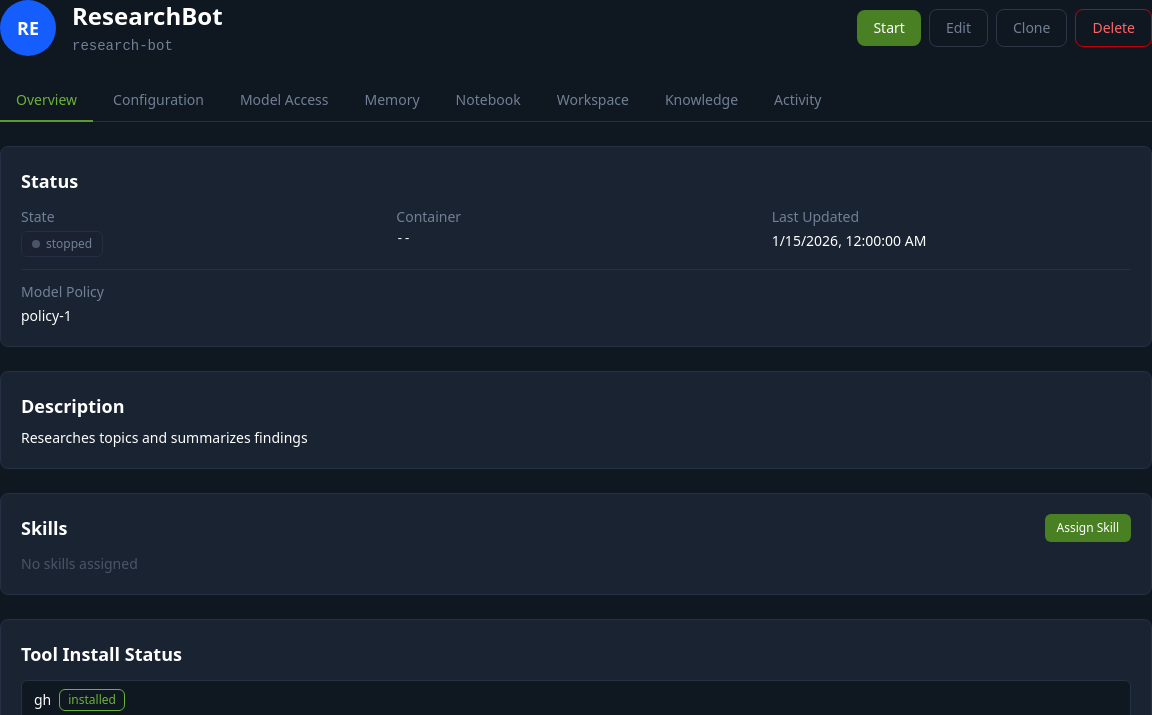
Scenario: AgentDetailClient › a non-JSON error body no longer fails silently (this sweep) › Start shows a toast, not silence, when the server answers with a body res.json() cannot parse
Check: the heading "ResearchBot" is shown, box 72,0 -> 223,32
Click the button "Start": (889, 28) 857,10 -> 921,46
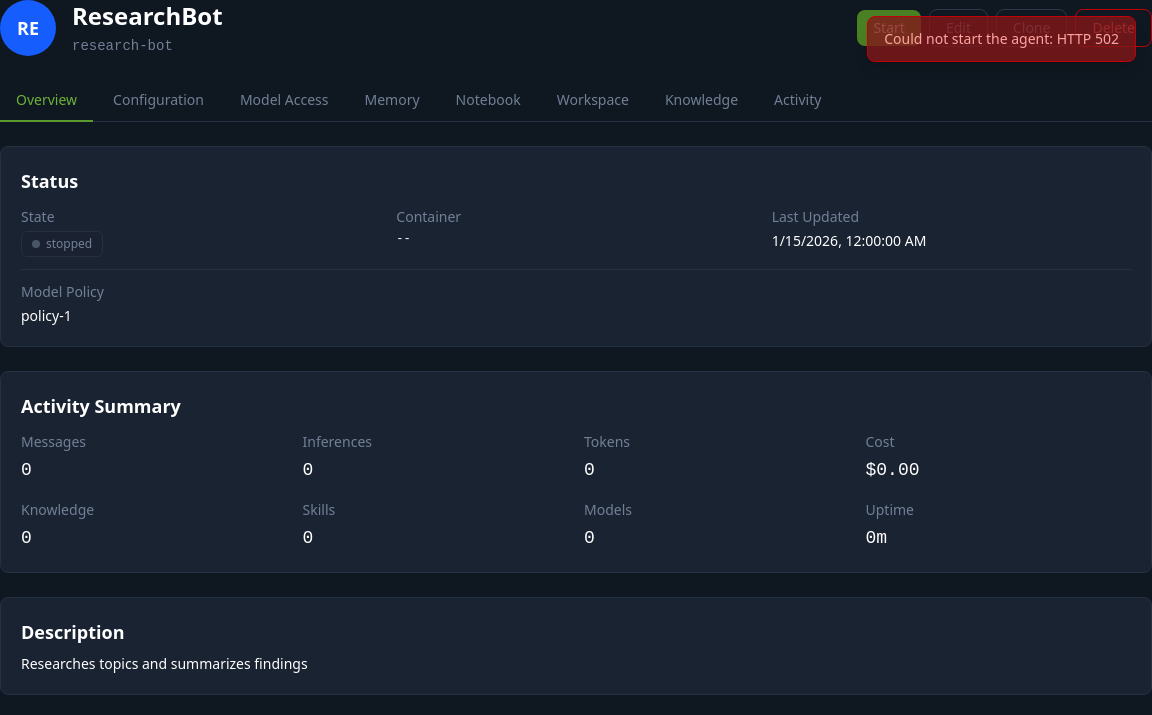
Check: the message "Could not start the agent: HTTP 502" is shown, box 867,16 -> 1136,62
Check: the message with test id "toast-error" shows "HTTP 502", box 884,29 -> 1119,48
